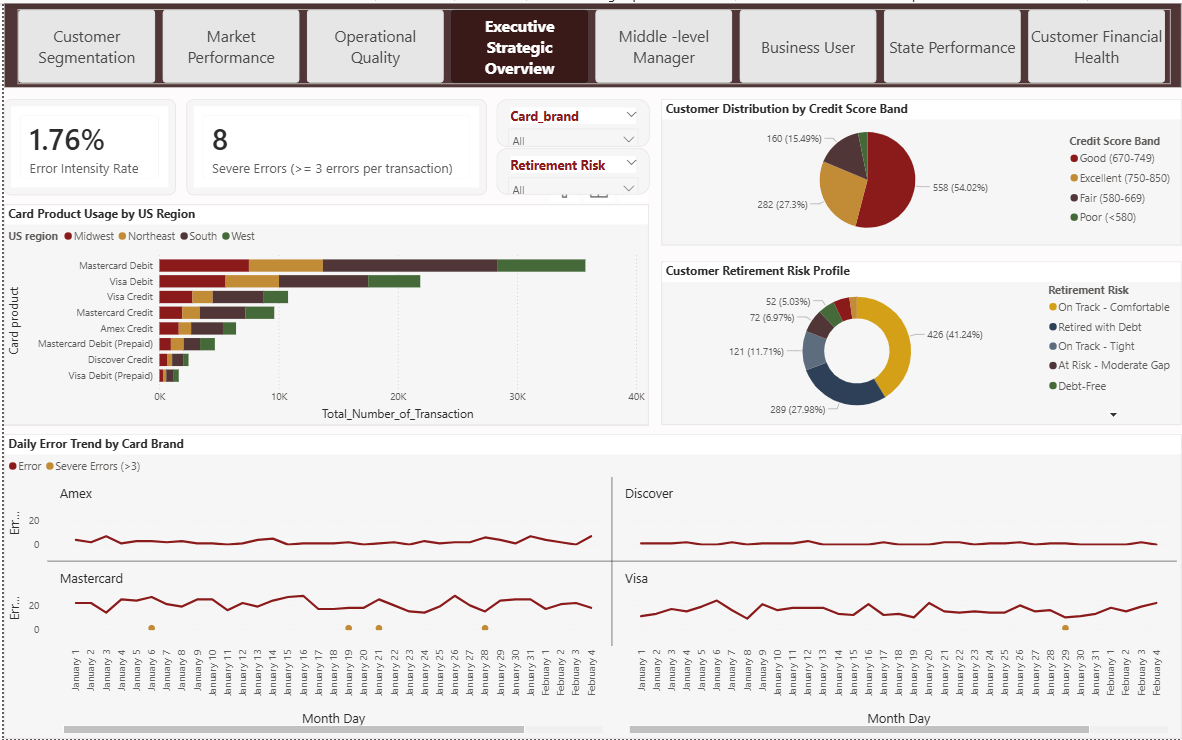

The dashboard page shown, as its layout file describes it:
{"tool":"powerbi","page":{"name":"Executive Strategic Overview","canvas":[1600,1000],"ordinal":3},"visuals":[{"type":"cardVisual","fields":{"Data":["Transactions.Total Error Intensity"]},"box":[0,130,233.3,130],"z":0},{"type":"pieChart","title":"Customer Distribution by Credit Score Band","fields":{"Category":["Customers.Credit Score Band"],"Y":["Customers.Total Customers"]},"box":[893.3,130,706.7,198.3],"z":1000},{"type":"barChart","title":"Card Product Usage by US Region","fields":{"Y":["Transactions.Total_Number_of_Transaction"],"Category":["Cards.Card product"],"Series":["Transactions.US region"]},"box":[0,273.4,876.4,300.6],"z":2000},{"type":"lineClusteredColumnComboChart","fields":{"Category":["Transactions.US region"],"Y":["Transactions.Total_Number_of_Transaction"],"Y2":["Transactions.Total Error Intensity"]},"box":[0,706.7,596.7,293.3],"z":3000},{"type":"lineChart","title":"Daily Error Trend by Card Brand","fields":{"Category":["Transactions.Date.Variation.Date Hierarchy.Month","Transactions.Date.Variation.Date Hierarchy.Day"],"Rows":["Cards.Card_brand"],"Y":["Sum(Transactions.Num_of_Errors)","Cards.Severe Errors"]},"box":[0,586.7,1600,413.3],"z":4000},{"type":"slicer","fields":{"Values":["Cards.Card_brand"]},"box":[670,130,208.3,65],"z":5000},{"type":"donutChart","title":"Customer Retirement Risk Profile","fields":{"Category":["Customers.Retirement Risk"],"Y":["Customers.Total Customers"]},"box":[893.3,351.7,706.7,221.7],"z":6000},{"type":"slicer","fields":{"Values":["Customers.Retirement Risk"]},"box":[668.3,196.7,208.3,63.3],"z":7000},{"type":"cardVisual","fields":{"Data":["Cards.Severe Errors (>3 errors)"]},"box":[248.3,130,408.3,130],"z":8000},{"type":"actionButton","box":[1521.7,8.3,78.3,36.7],"z":9000},{"type":"textbox","box":[0,0,1600,115],"z":10000},{"type":"pageNavigator","box":[18.3,8.3,1566.7,101.7],"z":11000}]}

Visuals, with their boxes in screenshot pixels (x1, y1, x2, y2), scaled from the page's 1600x1000 canvas onto the 1182x740 screenshot:
cardVisual - Transactions.Total Error Intensity: [left=0, top=96, right=172, bottom=192]
"Customer Distribution by Credit Score Band" pieChart: [left=660, top=96, right=1181, bottom=243]
"Card Product Usage by US Region" barChart: [left=0, top=202, right=647, bottom=425]
lineClusteredColumnComboChart - Transactions.US region x Transactions.Total_Number_of_Transaction: [left=0, top=523, right=441, bottom=739]
"Daily Error Trend by Card Brand" lineChart: [left=0, top=434, right=1181, bottom=739]
slicer - Cards.Card_brand: [left=495, top=96, right=649, bottom=144]
"Customer Retirement Risk Profile" donutChart: [left=660, top=260, right=1181, bottom=424]
slicer - Customers.Retirement Risk: [left=494, top=146, right=648, bottom=192]
cardVisual - Cards.Severe Errors (>3 errors): [left=183, top=96, right=485, bottom=192]
actionButton: [left=1124, top=6, right=1181, bottom=33]
textbox: [left=0, top=0, right=1181, bottom=85]
pageNavigator: [left=14, top=6, right=1171, bottom=81]
